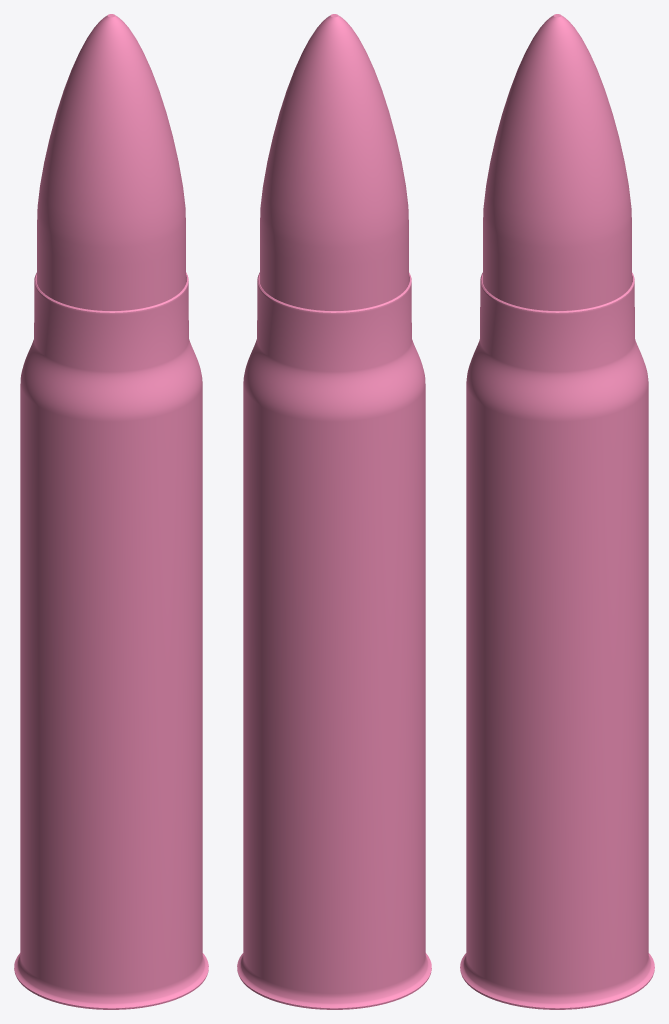
File: Tank shell.obj
3 renders of one model, left to right at view 1: azimuth 30°, elevation 25°; view 2: azimuth 150°, elevation 25°; view 3: azimuth 270°, elevation 25°, orthographic.
Parts seen in each view (by area): view 1: Cartridge_Circle, Projectile_Circle.001; view 2: Cartridge_Circle, Projectile_Circle.001; view 3: Cartridge_Circle, Projectile_Circle.001.
Part boxes in pixels (<box>): Cartridge_Circle: <box>14,272,208,1009</box>; Projectile_Circle.001: <box>37,14,185,310</box>; Cartridge_Circle: <box>237,272,431,1009</box>; Projectile_Circle.001: <box>260,14,408,310</box>; Cartridge_Circle: <box>460,272,654,1009</box>; Projectile_Circle.001: <box>483,14,631,310</box>.
Size of the model in its own units: 2.14 by 11.55 by 2.14.
